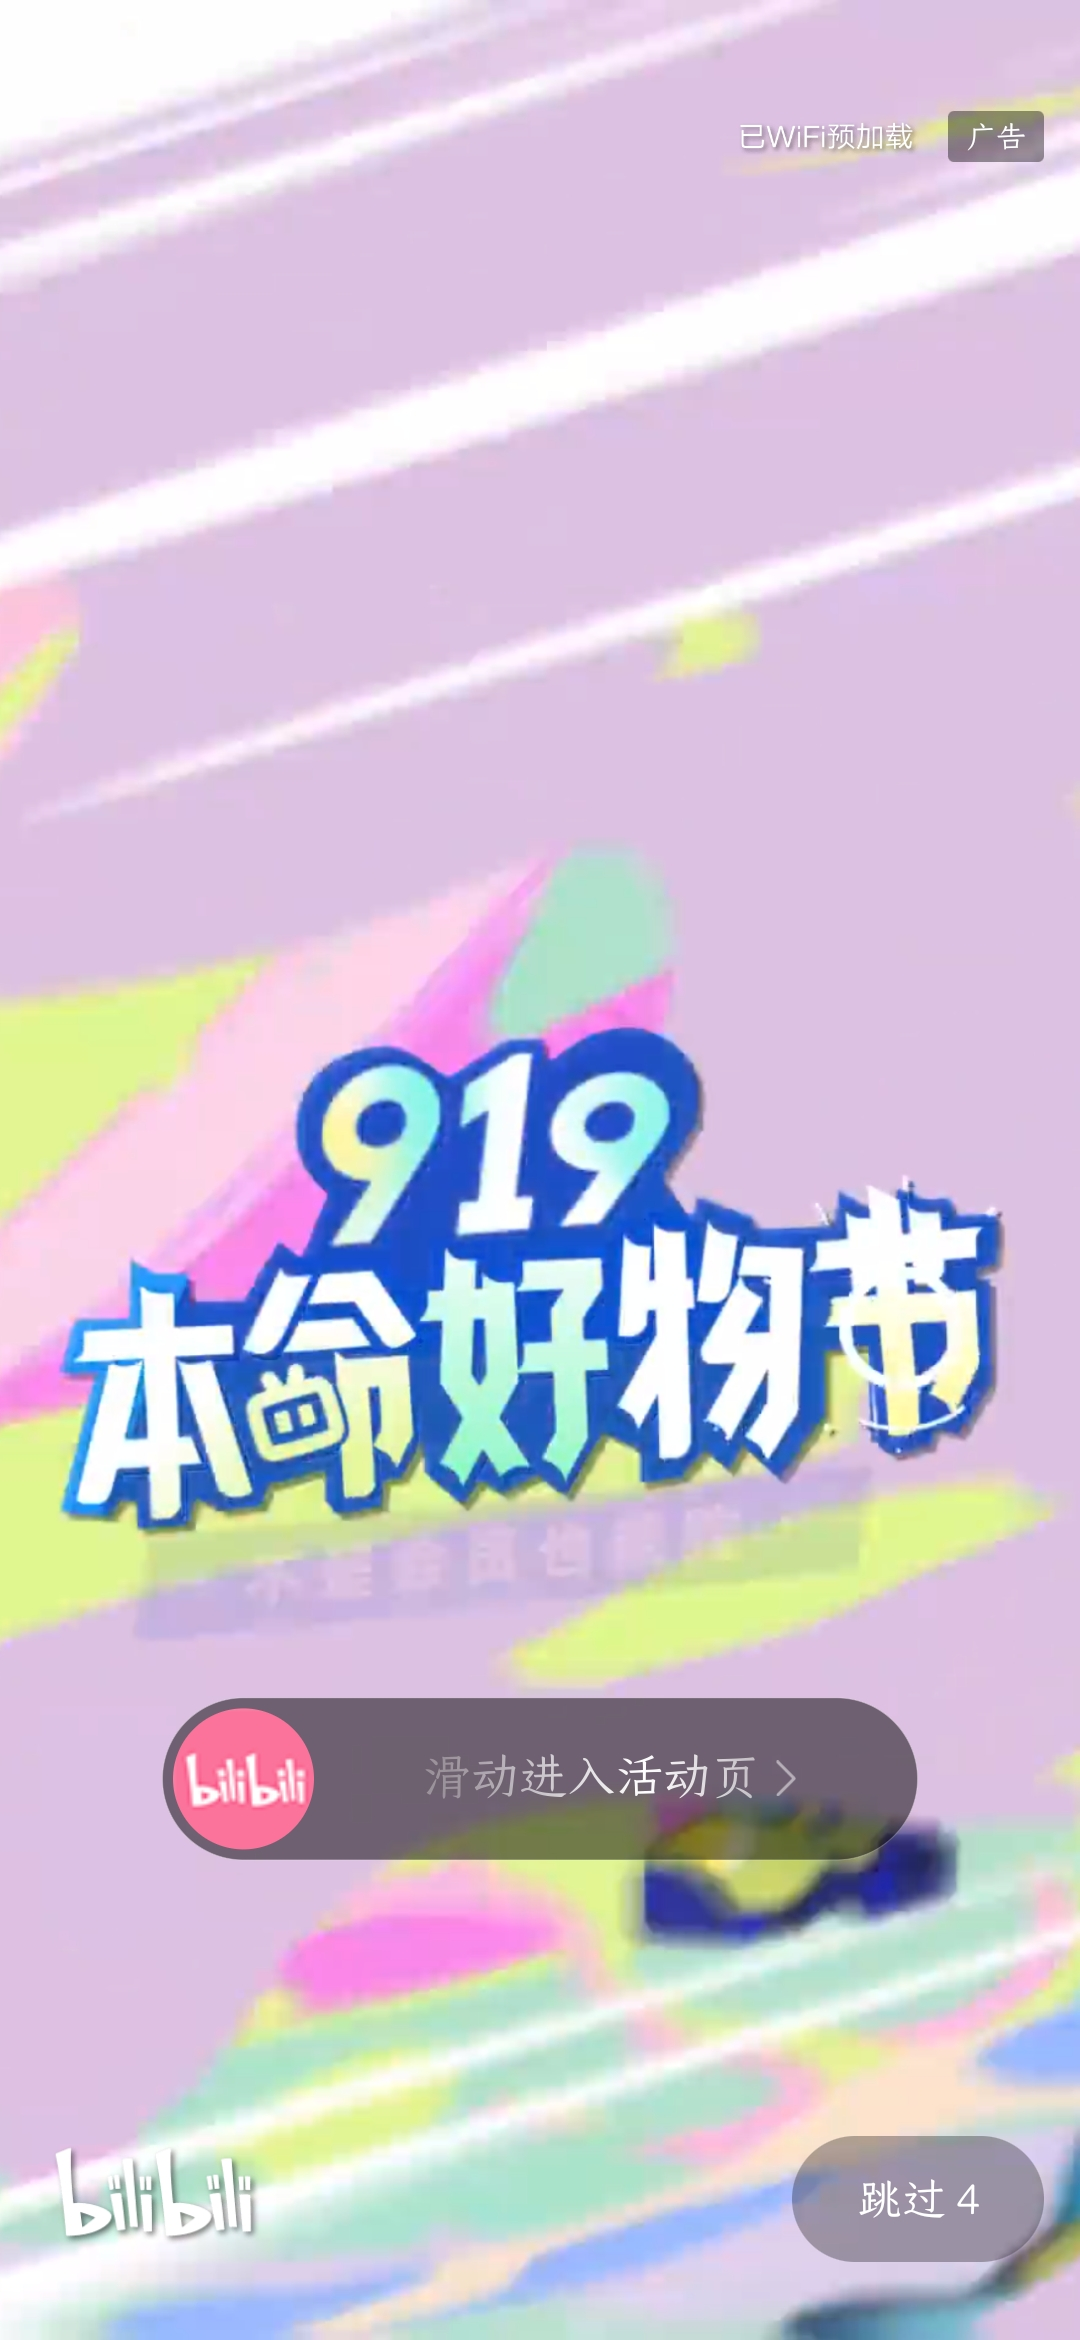skip: (820, 2150, 1016, 2259)
